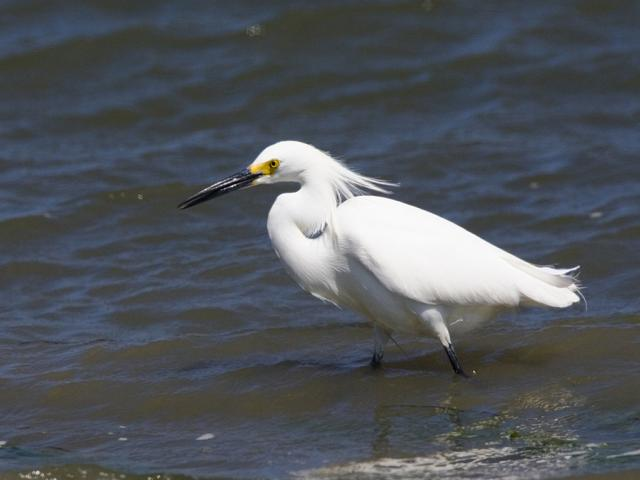Bird: (176, 139, 597, 383)
